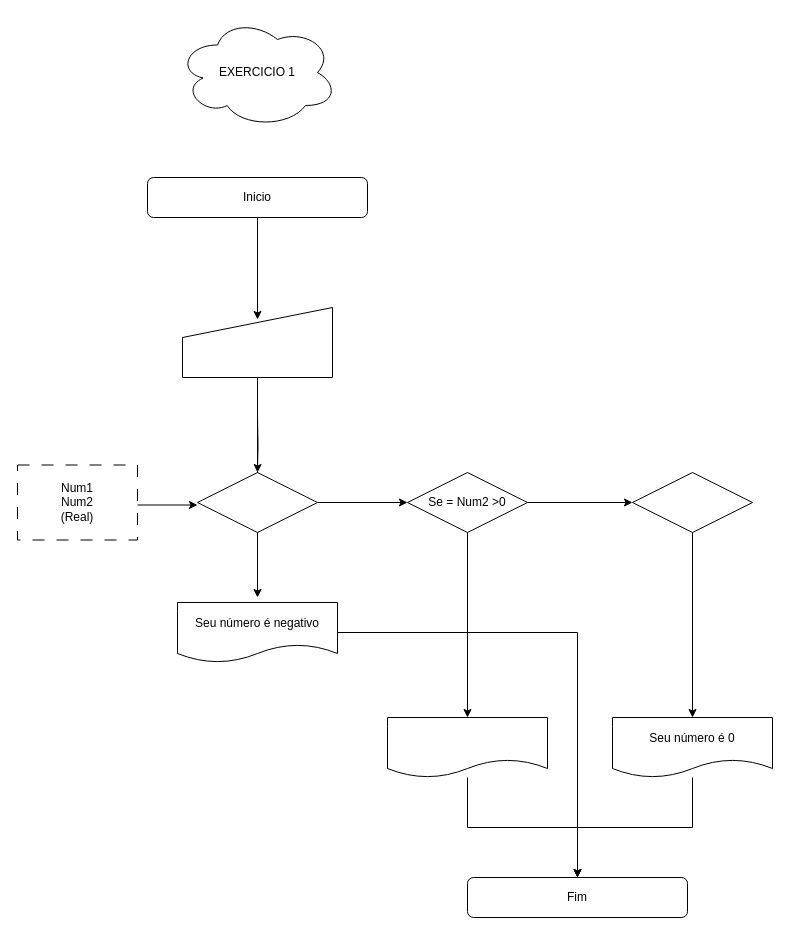
Some shapes in this 790 by 935 pixel diagram are drawn without their labels. Each missing label, with the centre of its shape:
Digite seu numero: (257,342)
Se = Num1<0: (257,502)
Senão: (692,502)
Seu número é positivo: (467,747)
